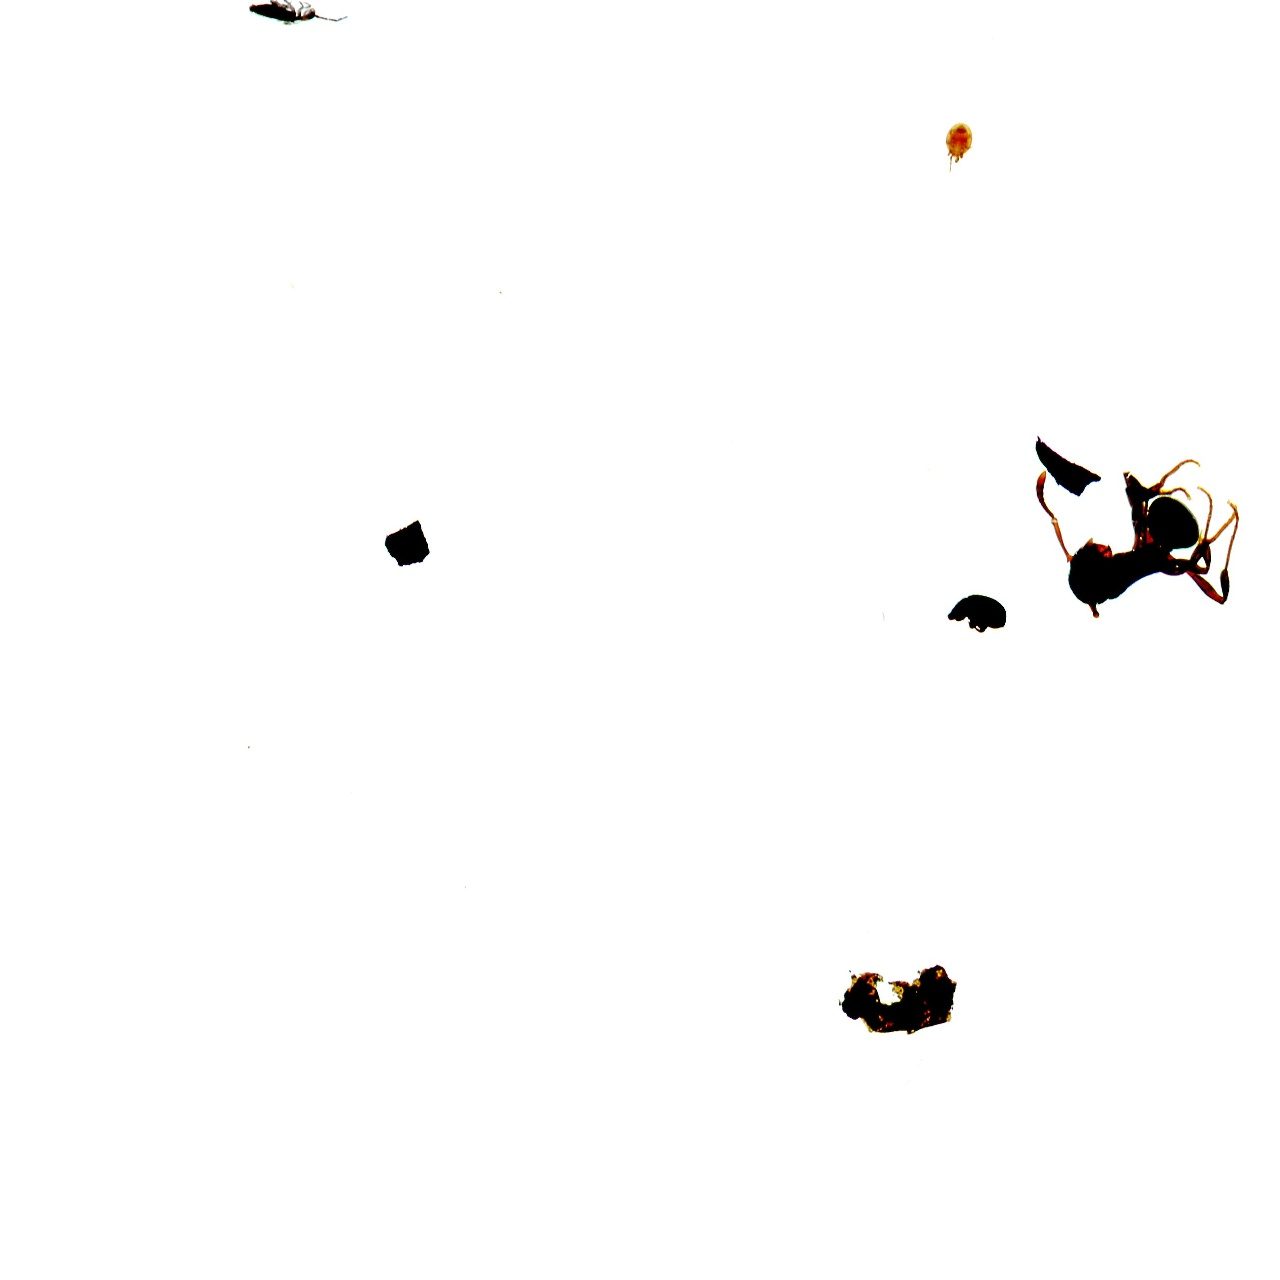arthropod: (1021, 449, 1242, 631), (236, 0, 355, 29), (946, 592, 1009, 636), (945, 121, 975, 175)
